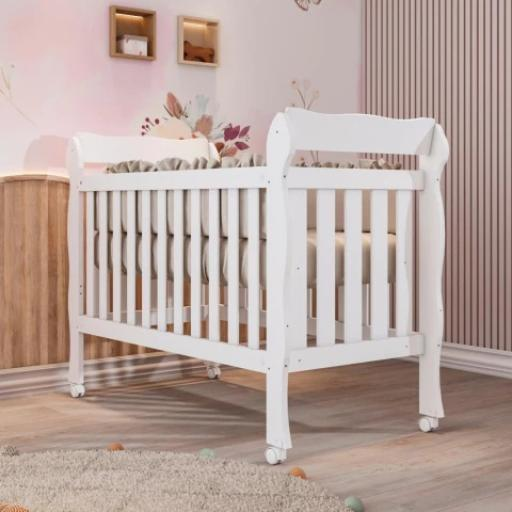crib: (70, 106, 445, 464)
